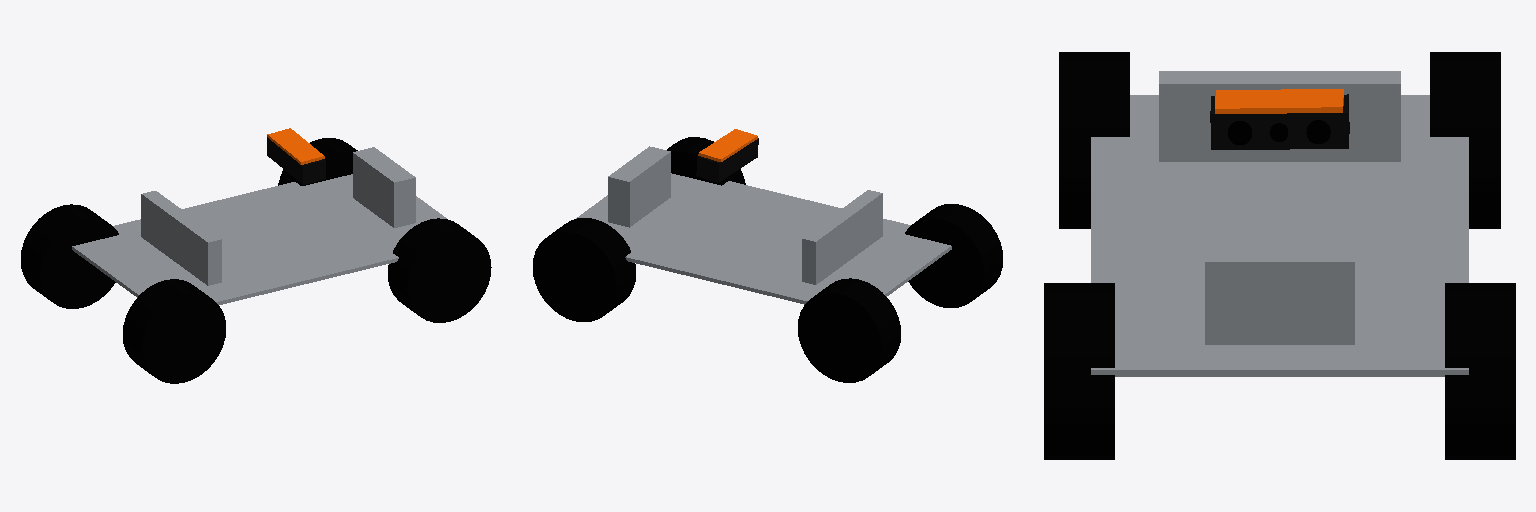
The robot description file, URDF, robot "lunshi_ackermann_lite":
<?xml version='1.0' encoding='utf-8'?>
<robot name="lunshi_ackermann_lite">
  <material name="mesh_default">
    <color rgba="0.62 0.64 0.66 1" />
  </material>
  <material name="wheel_black">
    <color rgba="0.02 0.02 0.02 1" />
  </material>
  <material name="sensor_dark">
    <color rgba="0.02 0.02 0.02 1" />
  </material>
  <material name="sensor_glass">
    <color rgba="0.01 0.01 0.015 0.85" />
  </material>
  <material name="hik_orange">
    <color rgba="1.0 0.45 0.05 1" />
  </material>
  <material name="hik_body">
    <color rgba="0.08 0.08 0.085 1" />
  </material>
  <material name="mount_black">
    <color rgba="0.05 0.05 0.055 1" />
  </material>
  <material name="laser_window">
    <color rgba="0.0 0.05 0.18 0.6" />
  </material>
  <!--
    REP-103/105 convention: base_link is the rear-axle midpoint at wheel-center
    height (X forward, Y left, Z up). GLIM and the Ackermann kinematics use this
    same reference point.
  -->
  <link name="base_link">
    <inertial>
      <origin xyz="0.181147972 0 0" rpy="0 0 0" />
      <mass value="4" />
      <inertia ixx="0.0229666667" ixy="0" ixz="0" iyy="0.0637666667" iyz="0" izz="0.0824666667" />
    </inertial>
    <visual name="base_plate_visual">
      <origin xyz="0.201147972 0 0.024" rpy="0 0 0" />
      <geometry>
        <box size="0.43 0.25 0.005" />
      </geometry>
      <material name="mesh_default" />
    </visual>
    <visual name="rear_body_visual">
      <origin xyz="0.081147972 0 0.054" rpy="0 0 0" />
      <geometry>
        <box size="0.02 0.16 0.06" />
      </geometry>
      <material name="mesh_default" />
    </visual>
    <visual name="front_body_visual">
      <origin xyz="0.362147972 0 0.055" rpy="0 0 0" />
      <geometry>
        <box size="0.03 0.10 0.064" />
      </geometry>
      <material name="mesh_default" />
    </visual>
    <collision name="base_plate_collision">
      <origin xyz="0.201147972 0 0.024" rpy="0 0 0" />
      <geometry>
        <box size="0.43 0.25 0.005" />
      </geometry>
    </collision>
    <collision name="rear_body_collision">
      <origin xyz="0.081147972 0 0.054" rpy="0 0 0" />
      <geometry>
        <box size="0.02 0.16 0.06" />
      </geometry>
    </collision>
    <collision name="front_body_collision">
      <origin xyz="0.362147972 0 0.055" rpy="0 0 0" />
      <geometry>
        <box size="0.03 0.10 0.064" />
      </geometry>
    </collision>
  </link>
  <link name="front_left_steering_link">
    <inertial>
      <origin xyz="0 0 0" rpy="0 0 0" />
      <mass value="0.08" />
      <inertia ixx="1.63333333e-05" ixy="0" ixz="0" iyy="1.63333333e-05" iyz="0" izz="1.63333333e-05" />
    </inertial>
    <visual name="front_left_steering_knuckle_visual">
      <origin xyz="0 0 0.015" rpy="0 0 0" />
      <geometry>
        <box size="0.035 0.035 0.045" />
      </geometry>
      <material name="mesh_default" />
    </visual>
    <collision name="front_left_steering_knuckle_collision">
      <origin xyz="0 0 0.015" rpy="0 0 0" />
      <geometry>
        <box size="0.035 0.035 0.045" />
      </geometry>
    </collision>
  </link>
  <link name="front_right_steering_link">
    <inertial>
      <origin xyz="0 0 0" rpy="0 0 0" />
      <mass value="0.08" />
      <inertia ixx="1.63333333e-05" ixy="0" ixz="0" iyy="1.63333333e-05" iyz="0" izz="1.63333333e-05" />
    </inertial>
    <visual name="front_right_steering_knuckle_visual">
      <origin xyz="0 0 0.015" rpy="0 0 0" />
      <geometry>
        <box size="0.035 0.035 0.045" />
      </geometry>
      <material name="mesh_default" />
    </visual>
    <collision name="front_right_steering_knuckle_collision">
      <origin xyz="0 0 0.015" rpy="0 0 0" />
      <geometry>
        <box size="0.035 0.035 0.045" />
      </geometry>
    </collision>
  </link>
  <link name="front_left_wheel">
    <inertial>
      <origin xyz="0 0 0" rpy="0 0 0" />
      <mass value="0.45" />
      <inertia ixx="0.000467840625" ixy="0" ixz="0" iyy="0.000467840625" iyz="0" izz="0.00077000625" />
    </inertial>
    <visual name="front_left_wheel_visual">
      <origin xyz="0 0 0" rpy="1.57079632679 0 0" />
      <geometry>
        <cylinder radius="0.058528263" length="0.047" />
      </geometry>
      <material name="wheel_black" />
    </visual>
    <collision name="front_left_wheel_collision">
      <origin xyz="0 0 0" rpy="1.57079632679 0 0" />
      <geometry>
        <cylinder radius="0.058528263" length="0.047" />
      </geometry>
    </collision>
  </link>
  <link name="front_right_wheel">
    <inertial>
      <origin xyz="0 0 0" rpy="0 0 0" />
      <mass value="0.45" />
      <inertia ixx="0.000467840625" ixy="0" ixz="0" iyy="0.000467840625" iyz="0" izz="0.00077000625" />
    </inertial>
    <visual name="front_right_wheel_visual">
      <origin xyz="0 0 0" rpy="1.57079632679 0 0" />
      <geometry>
        <cylinder radius="0.058528263" length="0.047" />
      </geometry>
      <material name="wheel_black" />
    </visual>
    <collision name="front_right_wheel_collision">
      <origin xyz="0 0 0" rpy="1.57079632679 0 0" />
      <geometry>
        <cylinder radius="0.058528263" length="0.047" />
      </geometry>
    </collision>
  </link>
  <link name="rear_left_wheel">
    <inertial>
      <origin xyz="0 0 0" rpy="0 0 0" />
      <mass value="0.45" />
      <inertia ixx="0.000467840625" ixy="0" ixz="0" iyy="0.000467840625" iyz="0" izz="0.00077000625" />
    </inertial>
    <visual name="rear_left_wheel_visual">
      <origin xyz="0 0 0" rpy="1.57079632679 0 0" />
      <geometry>
        <cylinder radius="0.058528263" length="0.047" />
      </geometry>
      <material name="wheel_black" />
    </visual>
    <collision name="rear_left_wheel_collision">
      <origin xyz="0 0 0" rpy="1.57079632679 0 0" />
      <geometry>
        <cylinder radius="0.058528263" length="0.047" />
      </geometry>
    </collision>
  </link>
  <link name="rear_right_wheel">
    <inertial>
      <origin xyz="0 0 0" rpy="0 0 0" />
      <mass value="0.45" />
      <inertia ixx="0.000467840625" ixy="0" ixz="0" iyy="0.000467840625" iyz="0" izz="0.00077000625" />
    </inertial>
    <visual name="rear_right_wheel_visual">
      <origin xyz="0 0 0" rpy="1.57079632679 0 0" />
      <geometry>
        <cylinder radius="0.058528263" length="0.047" />
      </geometry>
      <material name="wheel_black" />
    </visual>
    <collision name="rear_right_wheel_collision">
      <origin xyz="0 0 0" rpy="1.57079632679 0 0" />
      <geometry>
        <cylinder radius="0.058528263" length="0.047" />
      </geometry>
    </collision>
  </link>
  <link name="hik_camera_link">
    <inertial>
      <origin xyz="0 0 0" rpy="0 0 0" />
      <mass value="0.07" />
      <inertia ixx="5.22491667e-05" ixy="0" ixz="0" iyy="9.62173333e-06" iyz="0" izz="5.39842333e-05" />
    </inertial>
    <visual name="hik_camera_body">
      <origin xyz="0 0 0" rpy="0 0 0" />
      <geometry>
        <box size="0.0312 0.091 0.026" />
      </geometry>
      <material name="hik_body" />
    </visual>
    <visual name="hik_camera_top_orange_strip">
      <origin xyz="0 0 0.015" rpy="0 0 0" />
      <geometry>
        <box size="0.032 0.085 0.004" />
      </geometry>
      <material name="hik_orange" />
    </visual>
    <visual name="hik_camera_left_depth_lens">
      <origin xyz="0.0175 0.026 0" rpy="0 1.57079632679 0" />
      <geometry>
        <cylinder radius="0.008" length="0.004" />
      </geometry>
      <material name="sensor_glass" />
    </visual>
    <visual name="hik_camera_rgb_lens">
      <origin xyz="0.0175 0.0 0" rpy="0 1.57079632679 0" />
      <geometry>
        <cylinder radius="0.006" length="0.004" />
      </geometry>
      <material name="sensor_glass" />
    </visual>
    <visual name="hik_camera_right_depth_lens">
      <origin xyz="0.0175 -0.026 0" rpy="0 1.57079632679 0" />
      <geometry>
        <cylinder radius="0.008" length="0.004" />
      </geometry>
      <material name="sensor_glass" />
    </visual>
    <collision name="hik_camera_collision">
      <origin xyz="0 0 0" rpy="0 0 0" />
      <geometry>
        <box size="0.0312 0.091 0.026" />
      </geometry>
    </collision>
  </link>
  <link name="camera_color_optical_frame">
    <inertial>
      <origin xyz="0 0 0" rpy="0 0 0" />
      <mass value="0.001" />
      <inertia ixx="1.66666667e-10" ixy="0" ixz="0" iyy="1.66666667e-10" iyz="0" izz="1.66666667e-10" />
    </inertial>
  </link>
  <!-- All production sensor extrinsics are owned by this URDF. -->
  <link name="imu_link" />
  <link name="livox_frame" />
  <joint name="front_left_steering_joint" type="revolute">
    <origin xyz="0.362232603 0.132478341 0" rpy="0 0 0" />
    <parent link="base_link" />
    <child link="front_left_steering_link" />
    <axis xyz="0 0 1" />
    <limit lower="-0.523599" upper="0.523599" effort="8" velocity="3.0" />
    <dynamics damping="0.2" friction="0.05" />
  </joint>
  <joint name="front_left_wheel_joint" type="continuous">
    <origin xyz="0 0 0" rpy="0 0 0" />
    <parent link="front_left_steering_link" />
    <child link="front_left_wheel" />
    <axis xyz="0 1 0" />
    <dynamics damping="0.02" friction="0.01" />
  </joint>
  <joint name="front_right_steering_joint" type="revolute">
    <origin xyz="0.362359284 -0.132478458 0" rpy="0 0 0" />
    <parent link="base_link" />
    <child link="front_right_steering_link" />
    <axis xyz="0 0 1" />
    <limit lower="-0.523599" upper="0.523599" effort="8" velocity="3.0" />
    <dynamics damping="0.2" friction="0.05" />
  </joint>
  <joint name="front_right_wheel_joint" type="continuous">
    <origin xyz="0 0 0" rpy="0 0 0" />
    <parent link="front_right_steering_link" />
    <child link="front_right_wheel" />
    <axis xyz="0 1 0" />
    <dynamics damping="0.02" friction="0.01" />
  </joint>
  <joint name="rear_left_wheel_joint" type="continuous">
    <parent link="base_link" />
    <child link="rear_left_wheel" />
    <origin xyz="0 0.122700068 0" rpy="0 0 0" />
    <axis xyz="0 1 0" />
    <dynamics damping="0.05" friction="0.0" />
  </joint>
  <joint name="rear_right_wheel_joint" type="continuous">
    <parent link="base_link" />
    <child link="rear_right_wheel" />
    <origin xyz="0 -0.122699951 0" rpy="0 0 0" />
    <axis xyz="0 1 0" />
    <dynamics damping="0.05" friction="0.0" />
  </joint>
  <!-- STM32 IMU translation is not calibrated; only its yaw rate is visualized. -->
  <joint name="stm32_imu_joint" type="fixed">
    <origin xyz="0 0 0" rpy="0 0 0" />
    <parent link="base_link" />
    <child link="imu_link" />
  </joint>
  <joint name="livox_joint" type="fixed">
    <origin xyz="0.00523090362549 2.51457095146e-08 0.316025078297" rpy="-3.48706456905e-07 -2.34943204895e-07 -1.57079632679" />
    <parent link="base_link" />
    <child link="livox_frame" />
  </joint>
  <joint name="hik_camera_joint" type="fixed">
    <origin xyz="0.239999994636 0 0.125" rpy="0.024859535234 -0.0430526811853 -0.0252014322581" />
    <parent link="base_link" />
    <child link="hik_camera_link" />
  </joint>
  <joint name="camera_color_optical_joint" type="fixed">
    <origin xyz="0.015603 0 0" rpy="-1.57079632679 0 -1.57079632679" />
    <parent link="hik_camera_link" />
    <child link="camera_color_optical_frame" />
  </joint>
  <ros2_control name="LunshiAckermannSystem" type="system">
    <hardware>
      <plugin>mock_components/GenericSystem</plugin>
    </hardware>
    <joint name="front_left_steering_joint">
      <command_interface name="position">
        <param name="min">-0.523599</param>
        <param name="max">0.523599</param>
      </command_interface>
      <state_interface name="position" />
      <state_interface name="velocity" />
    </joint>
    <joint name="front_right_steering_joint">
      <command_interface name="position">
        <param name="min">-0.523599</param>
        <param name="max">0.523599</param>
      </command_interface>
      <state_interface name="position" />
      <state_interface name="velocity" />
    </joint>
    <joint name="rear_left_wheel_joint">
      <command_interface name="velocity">
        <param name="min">-30</param>
        <param name="max">30</param>
      </command_interface>
      <state_interface name="position" />
      <state_interface name="velocity" />
    </joint>
    <joint name="rear_right_wheel_joint">
      <command_interface name="velocity">
        <param name="min">-30</param>
        <param name="max">30</param>
      </command_interface>
      <state_interface name="position" />
      <state_interface name="velocity" />
    </joint>
    <joint name="front_left_wheel_joint">
      <state_interface name="position" />
      <state_interface name="velocity" />
    </joint>
    <joint name="front_right_wheel_joint">
      <state_interface name="position" />
      <state_interface name="velocity" />
    </joint>
  </ros2_control>
</robot>

--- What the picture shows (computed from the rendered views, not written in the file) ---
3 views of the same robot in one strip: view 1: azimuth 30°, elevation 25°; view 2: azimuth 150°, elevation 25°; view 3: azimuth 270°, elevation 25° (orthographic).
Robot: lunshi_ackermann_lite — 11 links, 10 joints (2 revolute, 4 continuous, 4 fixed); root link base_link; default pose: all joints at 0.
Links seen in each view (by area): view 1: base_link, rear_right_wheel, front_right_wheel, rear_left_wheel, hik_camera_link, front_left_wheel; view 2: base_link, rear_left_wheel, front_left_wheel, rear_right_wheel, hik_camera_link, front_right_wheel; view 3: base_link, front_left_wheel, front_right_wheel, rear_left_wheel, rear_right_wheel, hik_camera_link.
Link boxes in pixels (x1,y1,x2,y2): base_link: (72, 147, 446, 304); rear_right_wheel: (123, 279, 225, 383); front_right_wheel: (388, 218, 491, 322); rear_left_wheel: (21, 204, 118, 308); hik_camera_link: (267, 128, 325, 184); front_left_wheel: (278, 138, 357, 185); base_link: (576, 146, 951, 304); rear_left_wheel: (798, 278, 900, 382); front_left_wheel: (533, 218, 635, 321); rear_right_wheel: (905, 204, 1002, 307); hik_camera_link: (696, 129, 758, 182); front_right_wheel: (667, 137, 745, 185); base_link: (1091, 71, 1468, 376); front_left_wheel: (1445, 283, 1515, 459); front_right_wheel: (1044, 283, 1114, 459); rear_left_wheel: (1430, 52, 1500, 228); rear_right_wheel: (1059, 52, 1129, 228); hik_camera_link: (1210, 89, 1349, 149).
Size in the robot's own frame: 0.4794 by 0.312 by 0.2023 metres.
Geometry: primitives only (box / cylinder / sphere), no mesh files.
